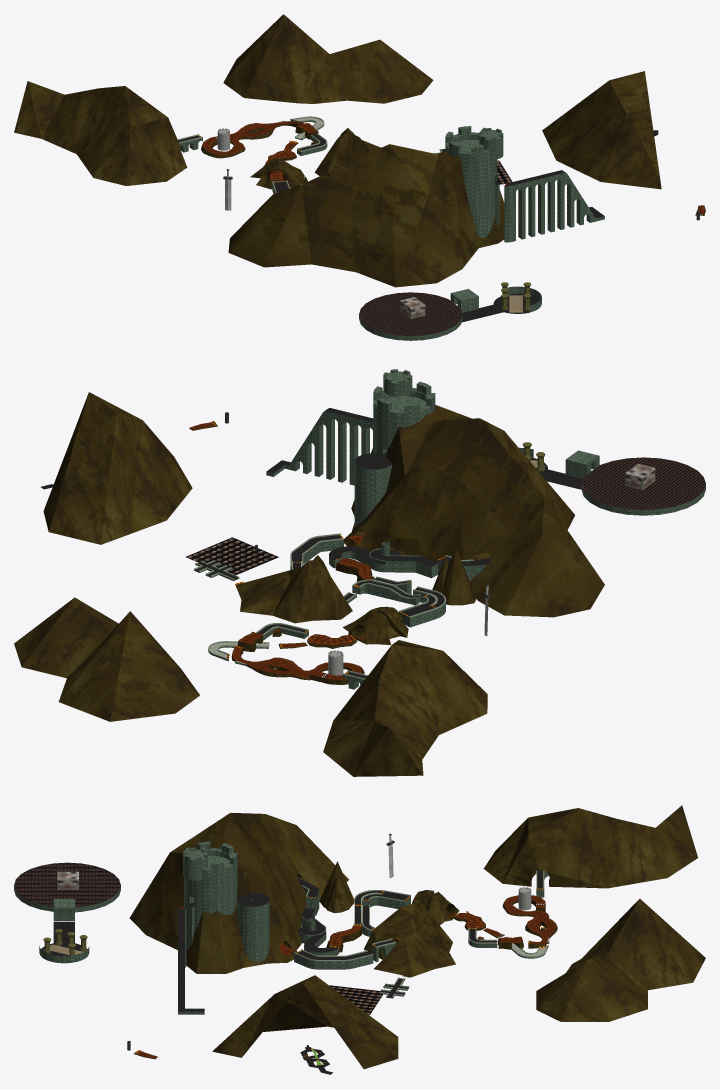
The picture shows the model from 3 angles, top to bottom: view 1: azimuth 30°, elevation 25°; view 2: azimuth 150°, elevation 25°; view 3: azimuth 270°, elevation 25°; orthographic projection. The views are drawn at different scales.
Parts seen in each view (by area): view 1: snikicm-SKP-Material7.001, snikicm-SKP-Material3.001, snikicm-SKP-Material18.001, snikicm-SKP-Material1.001, snikicm-SKP-Concrete_Aggregate_Smoke.001; view 2: snikicm-SKP-Material7.001, snikicm-SKP-Material3.001, snikicm-SKP-Material18.001, snikicm-SKP-Concrete_Aggregate_Smoke.001, snikicm-SKP-Material1.001, snikicm-SKP-Material6.001, snikicm-SKP-Material19.001, snikicm-SKP-Material17.001, snikicm-SKP-sadcat.001; view 3: snikicm-SKP-Material7.001, snikicm-SKP-Material3.001, snikicm-SKP-Concrete_Aggregate_Smoke.001, snikicm-SKP-Material18.001, snikicm-SKP-Material1.001, snikicm-SKP-Material6.001, snikicm-SKP-Material19.001, snikicm-SKP-Material5.001, snikicm-SKP-Material17.001.
Part boxes in pixels (<box>): snikicm-SKP-Material7.001: <box>14,14,705,287</box>; snikicm-SKP-Material3.001: <box>179,119,704,340</box>; snikicm-SKP-Material18.001: <box>359,292,462,336</box>; snikicm-SKP-Material1.001: <box>202,121,705,214</box>; snikicm-SKP-Concrete_Aggregate_Smoke.001: <box>178,130,658,322</box>; snikicm-SKP-Material7.001: <box>14,392,604,776</box>; snikicm-SKP-Material3.001: <box>194,369,705,689</box>; snikicm-SKP-Material18.001: <box>581,457,705,509</box>; snikicm-SKP-Concrete_Aggregate_Smoke.001: <box>41,408,582,678</box>; snikicm-SKP-Material1.001: <box>190,422,372,679</box>; snikicm-SKP-Material6.001: <box>194,533,473,679</box>; snikicm-SKP-Material19.001: <box>186,539,278,574</box>; snikicm-SKP-Material17.001: <box>191,537,272,575</box>; snikicm-SKP-sadcat.001: <box>625,464,655,489</box>; snikicm-SKP-Material7.001: <box>129,805,705,1069</box>; snikicm-SKP-Material3.001: <box>14,841,549,1053</box>; snikicm-SKP-Concrete_Aggregate_Smoke.001: <box>41,869,544,1074</box>; snikicm-SKP-Material18.001: <box>14,862,120,907</box>; snikicm-SKP-Material1.001: <box>136,895,556,1058</box>; snikicm-SKP-Material6.001: <box>294,870,548,997</box>; snikicm-SKP-Material19.001: <box>330,985,382,1014</box>; snikicm-SKP-Material5.001: <box>43,929,87,955</box>; snikicm-SKP-Material17.001: <box>334,986,381,1011</box>.
Size of the model in its own units: 321772 by 73477 by 388017.
Materials: 30 (29 with a texture image).
